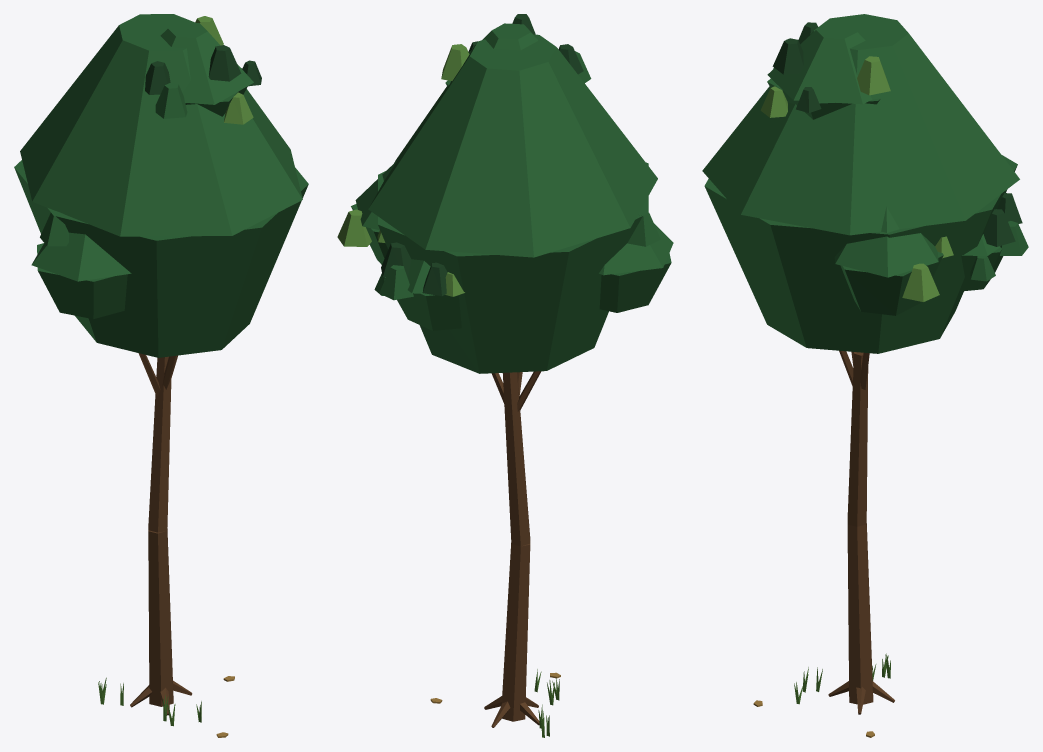
Rendered from tree_oak_young.obj.
The picture shows the model from 3 angles, left to right: view 1: azimuth 30°, elevation 25°; view 2: azimuth 150°, elevation 25°; view 3: azimuth 270°, elevation 25°; orthographic projection.
Parts seen in each view (by area): view 1: Crown, Trunk, Clump, Branch, Grass; view 2: Crown, Trunk, Clump, Root, Branch; view 3: Crown, Trunk, Clump.
Part boxes in pixels (x1,y1,x2,y2): Crown: (14, 14, 308, 357); Trunk: (148, 356, 173, 706); Clump: (40, 16, 261, 246); Branch: (138, 353, 177, 395); Grass: (98, 677, 201, 726); Crown: (351, 23, 673, 373); Trunk: (501, 372, 530, 721); Clump: (337, 14, 660, 300); Root: (484, 696, 539, 727); Branch: (491, 371, 541, 411); Crown: (702, 14, 1019, 353); Trunk: (847, 352, 873, 704); Clump: (760, 22, 1028, 301).
Bounding box in the file's own units: 4 × 9.02 × 3.94.
